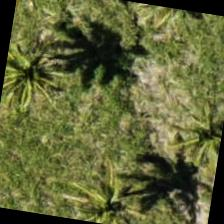Kelapa_Sawit: (1, 7, 80, 106), (159, 72, 223, 172), (45, 163, 144, 223)
